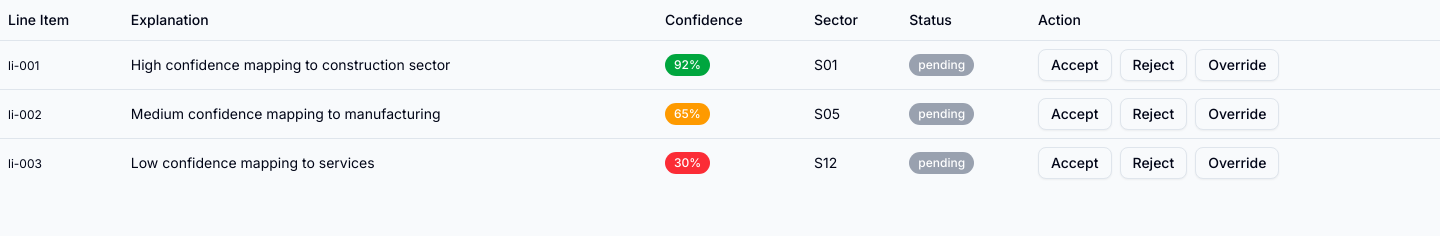
Test case: DecisionTable › clicking Override shows sector input
Step 1. Click the button "Override" in the row of "li-001" → click(1237, 64), box [1195, 48, 1280, 80]
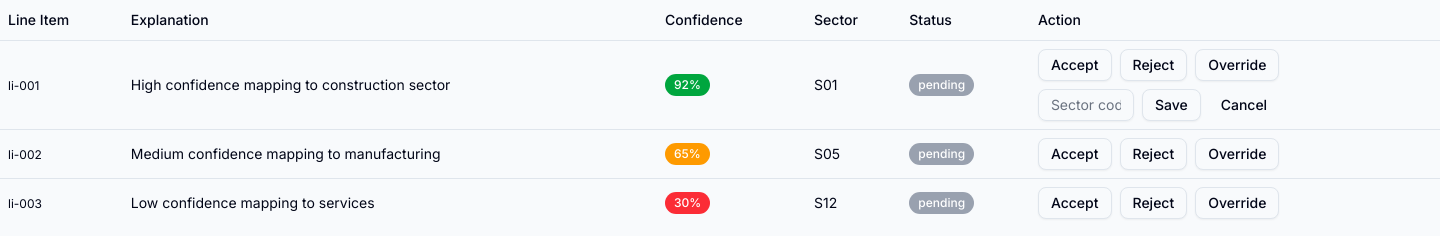
Result: the field with placeholder "Sector code" is shown at [1038, 88, 1134, 120]
